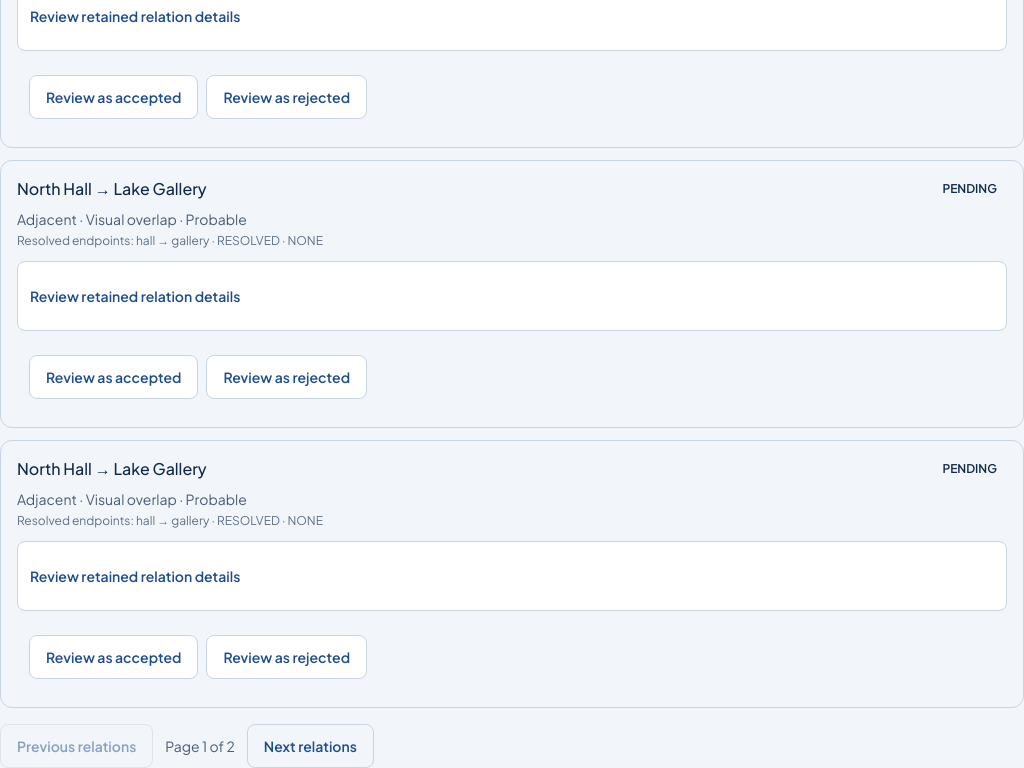
Test: MediaRelationReviewControls › shows at most twenty relation histories per page
(page scrolled)
Click the button "Next relations" at (310,746), box [247,724,374,767]
(page scrolled)
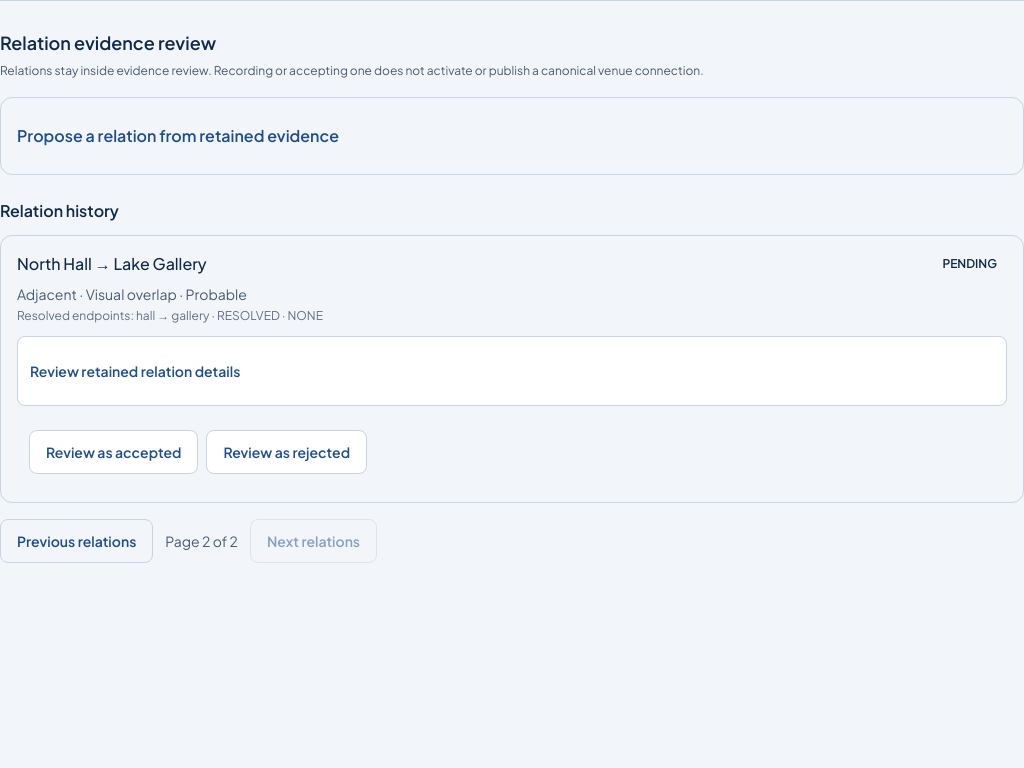
Expected: the number of buttons "Review as accepted" is 1, [29,430,198,474]
Expected: the text "Page 2 of 2" is shown, [165,531,238,551]
